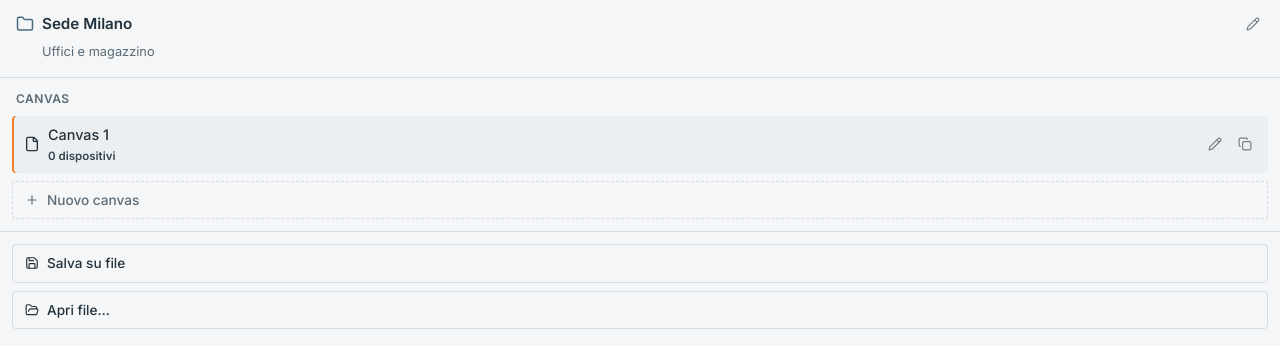
Test: ExplorerPanel › canvases › adding a canvas: Escape cancels, an empty name adds nothing
The image size is (1280, 346).
Click the button "Nuovo canvas".
click(93, 200)  # box left=12, top=181, right=1268, bottom=219
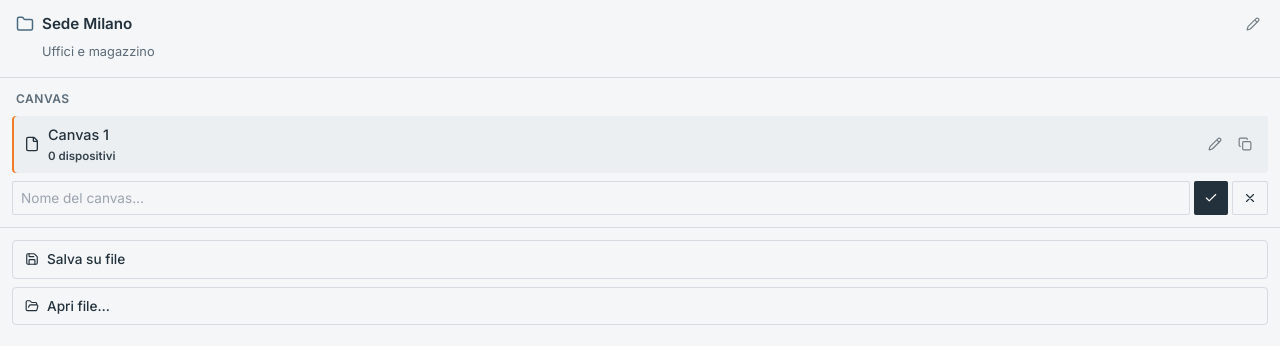
Press Enter in the field named "Nome del nuovo canvas", box left=12, top=181, right=1190, bottom=215
Type "X" into the field named "Nome del nuovo canvas".
click(601, 198); type("X")  # box left=12, top=181, right=1190, bottom=215
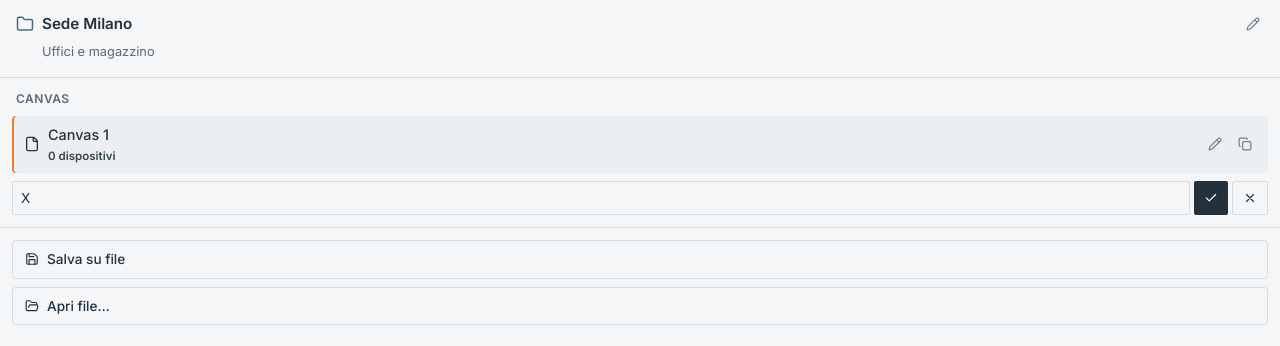
Press Escape in the field named "Nome del nuovo canvas", box left=12, top=181, right=1190, bottom=215
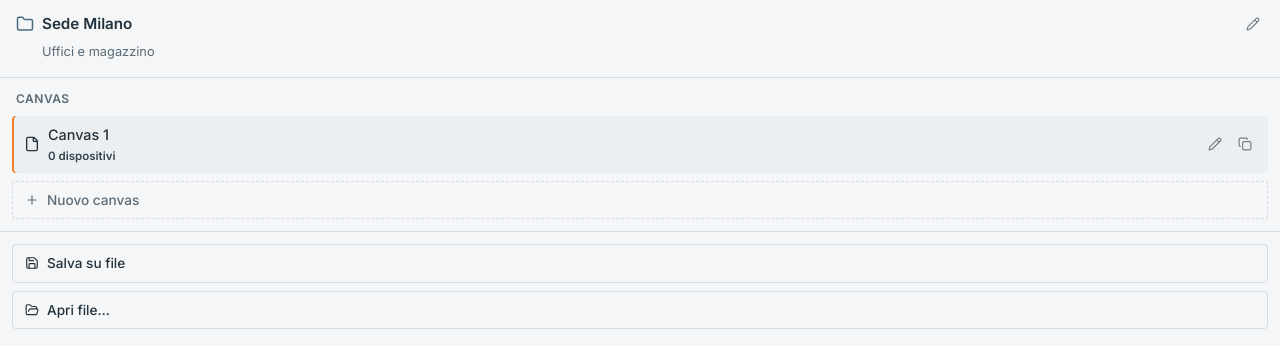
Check: the button "Nuovo canvas" is shown, box left=12, top=181, right=1268, bottom=219
